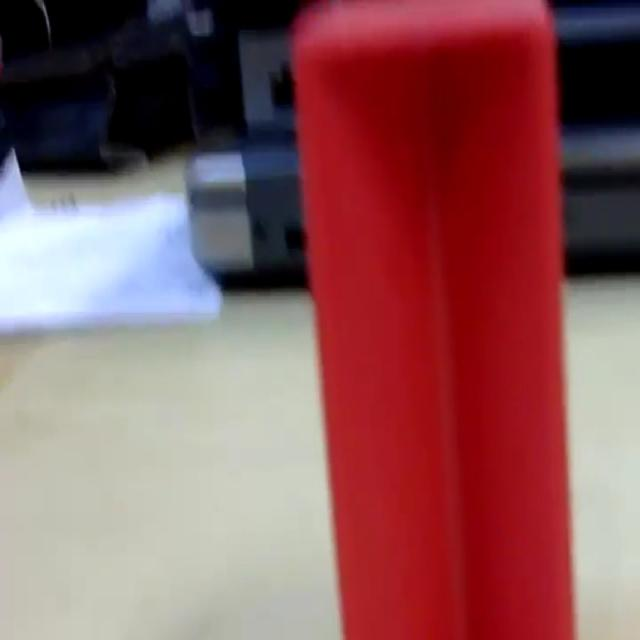red_block: (290, 3, 578, 636)
